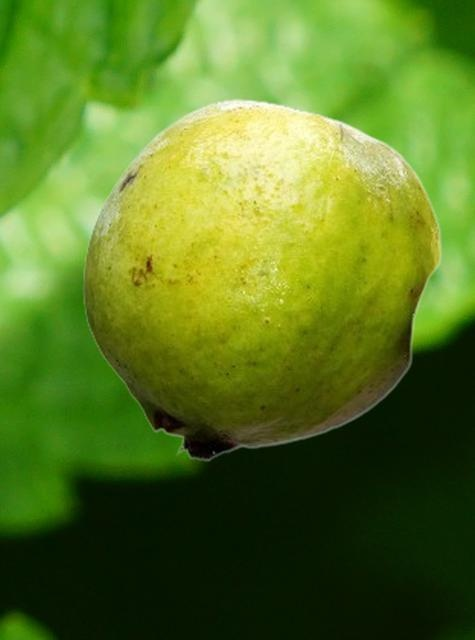guava: (82, 98, 441, 461)
